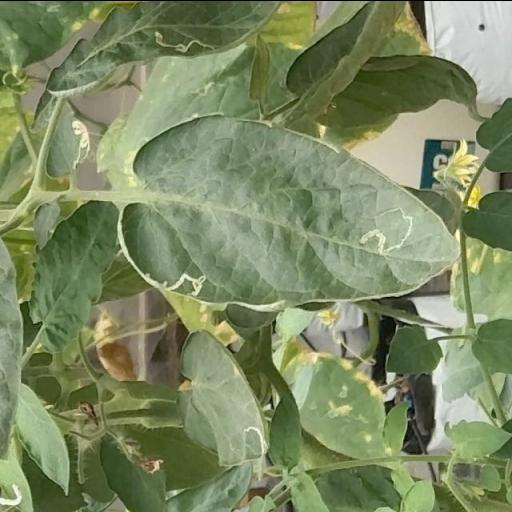Healthy: (26, 198, 118, 354)
Leaf Miner: (120, 110, 466, 308), (38, 96, 92, 182)
